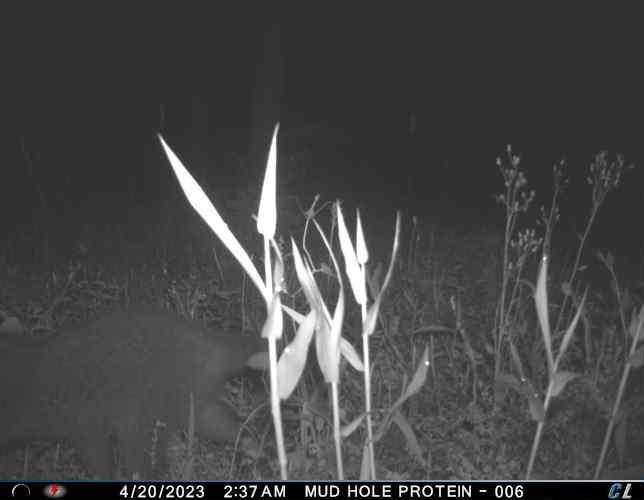Raccoon: (0, 300, 265, 483)
